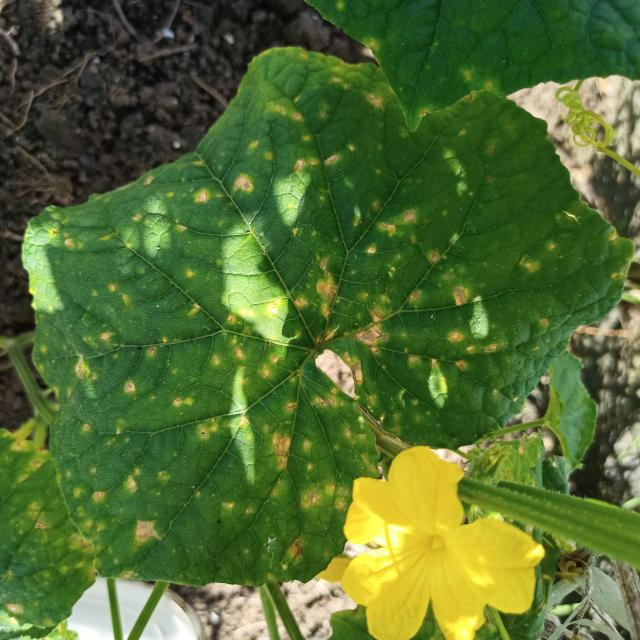disease_cucumber: (42, 57, 590, 572)
